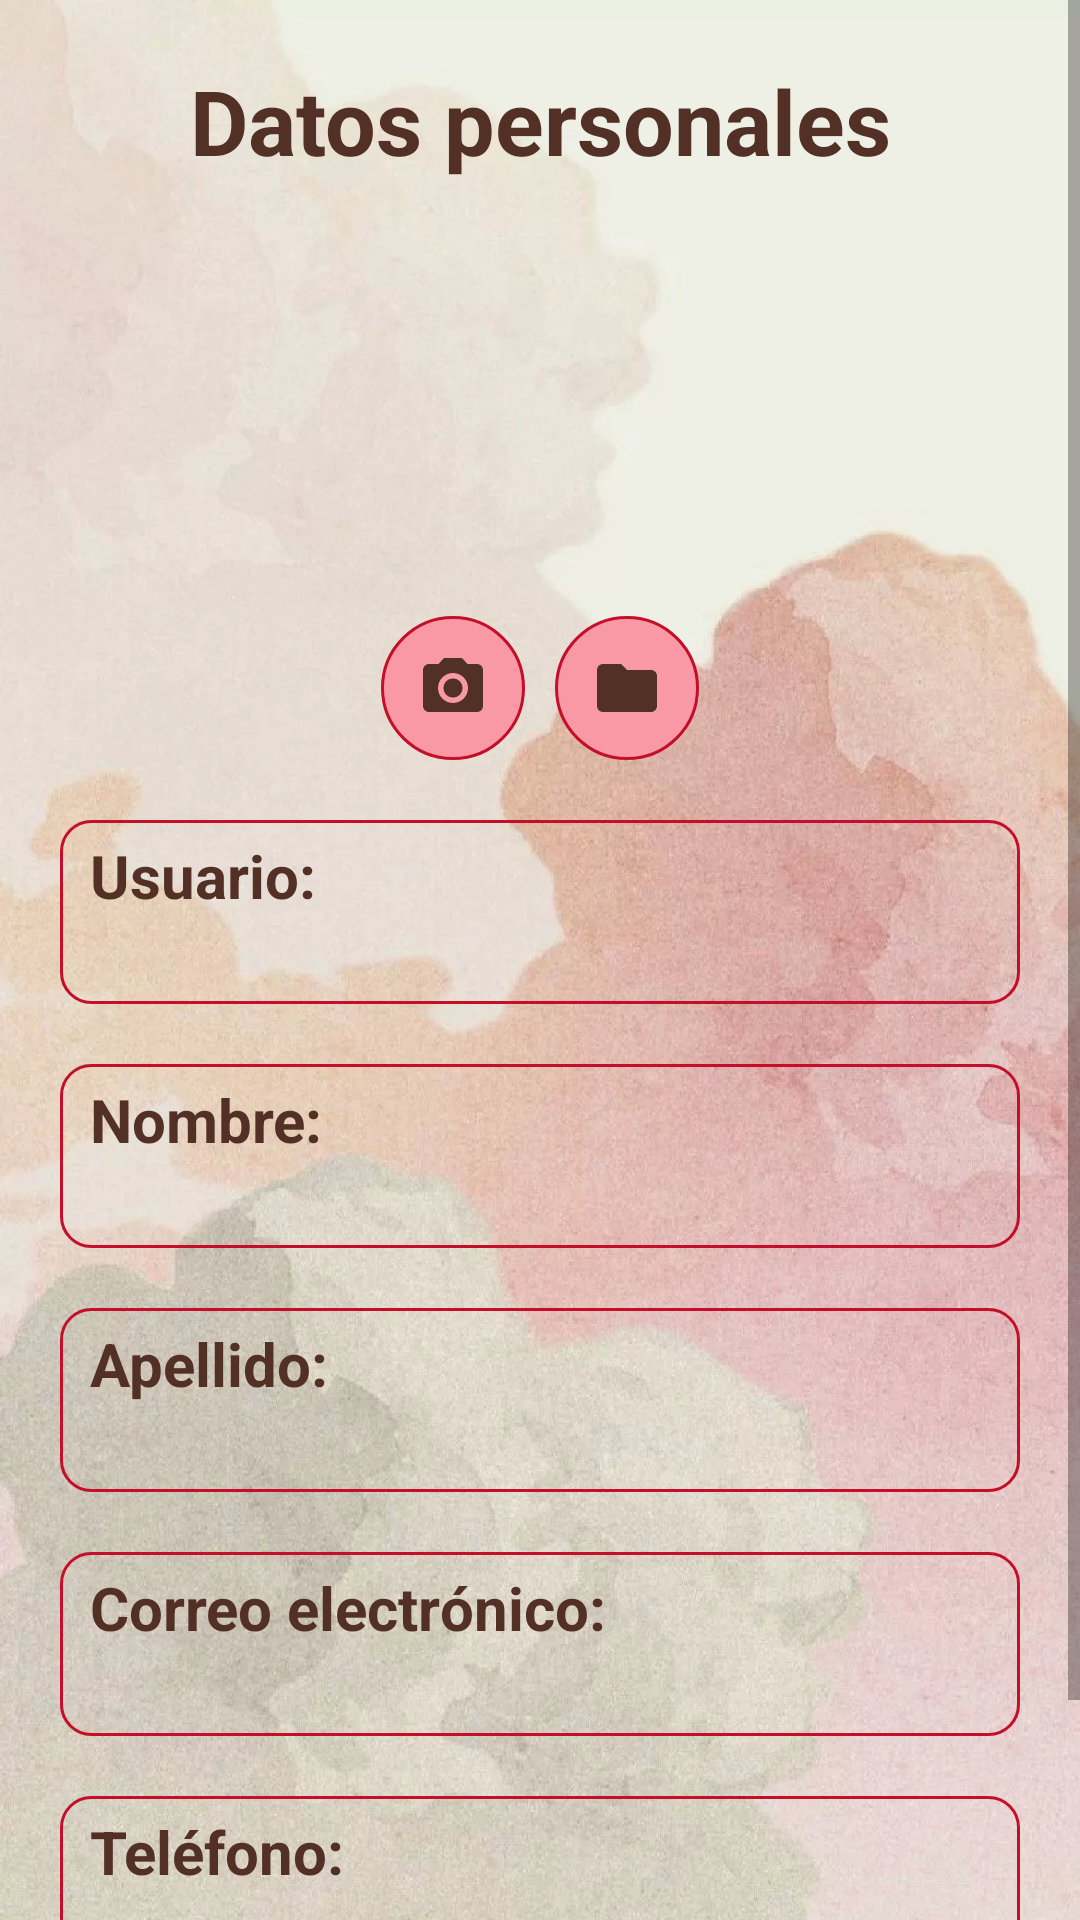

Point at icon controls on the screen. Image size 1080x1920, points as point (x, y).
camera: point (453, 688)
folder: point (627, 688)
